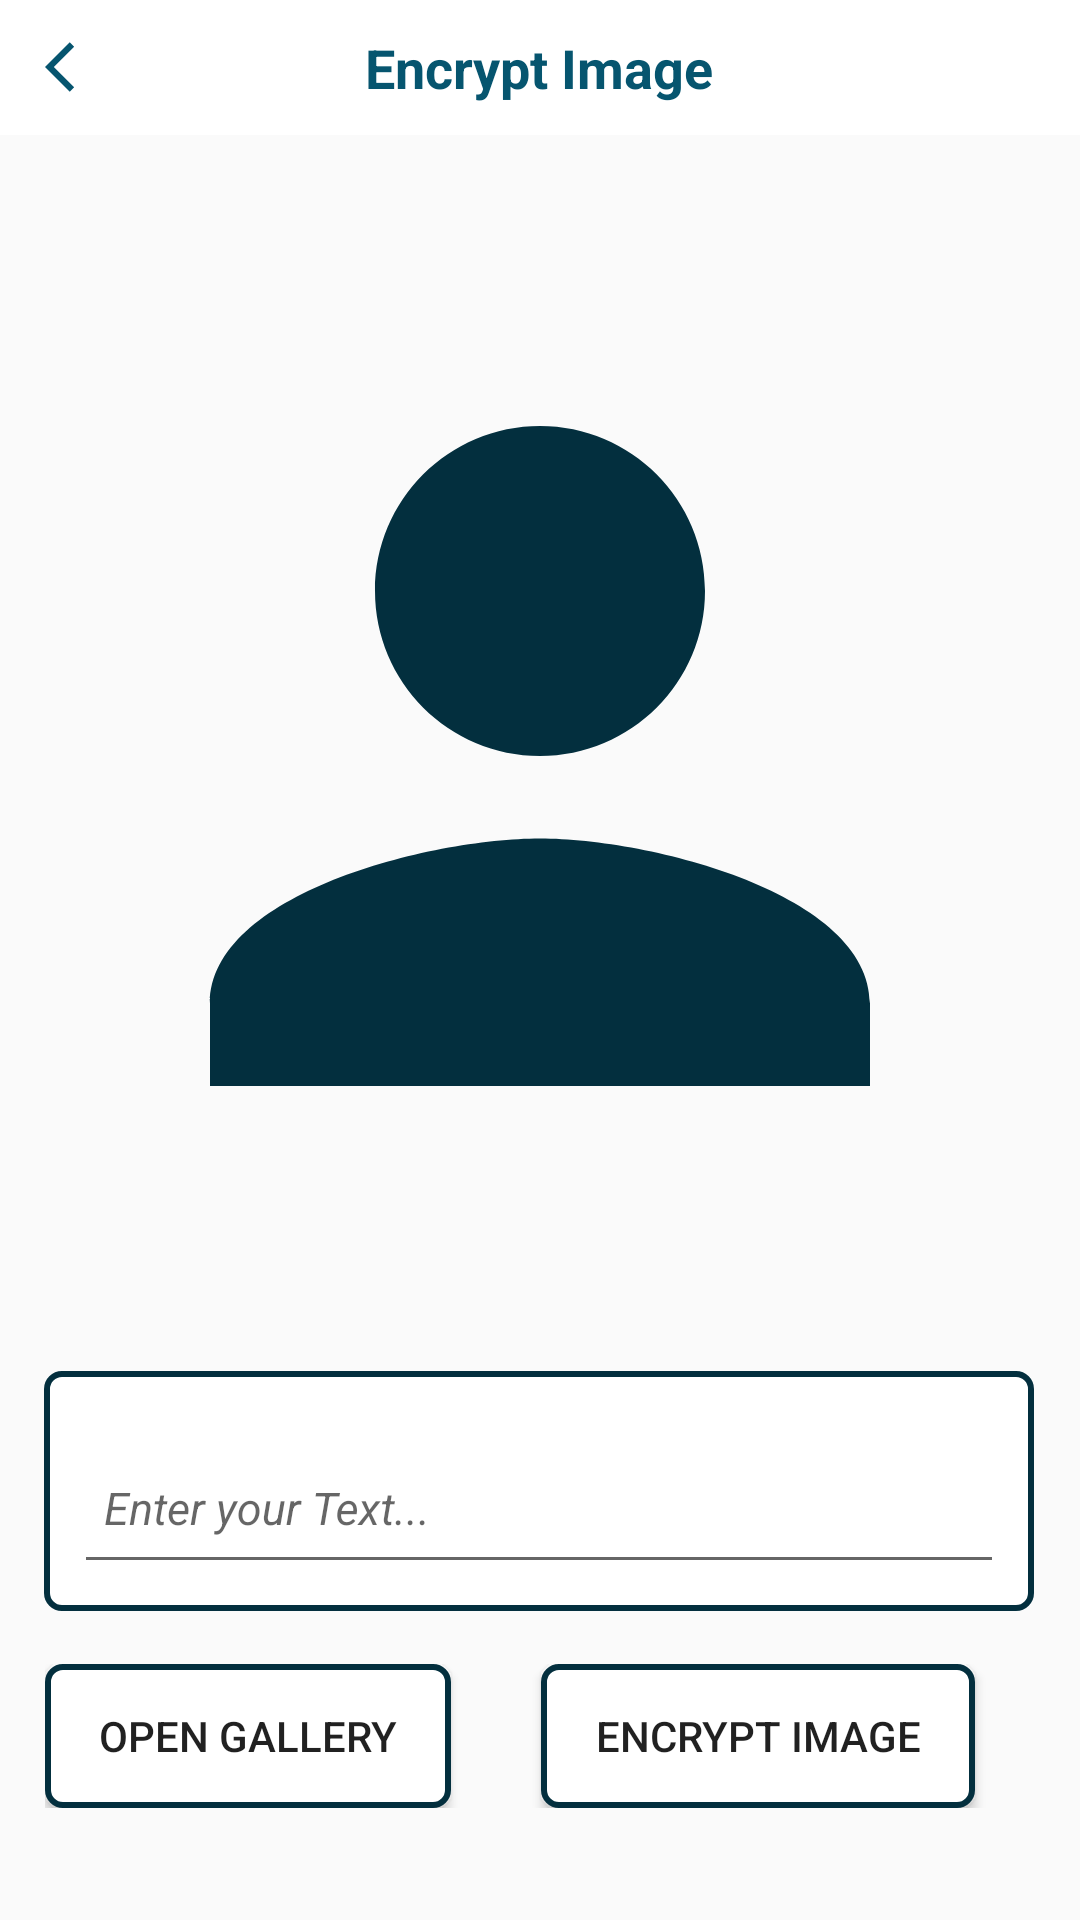

Where to tap for icons on this 1080*1920 app screen, as (x,y):
arrow back: (59,67)
